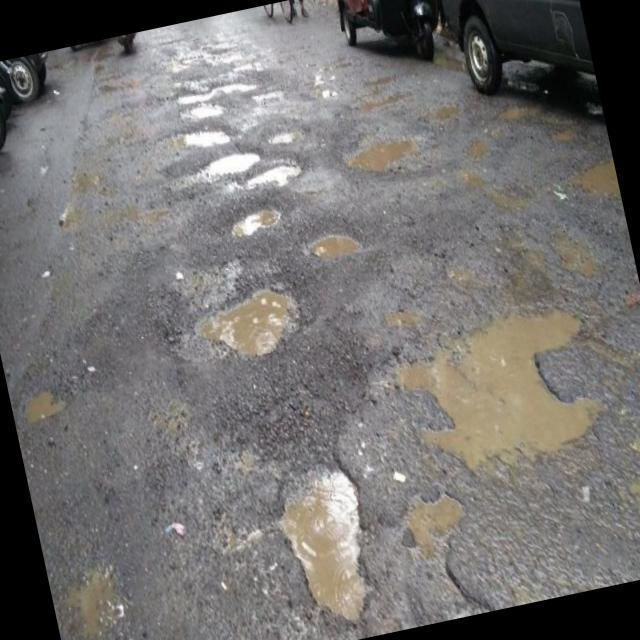Pothole: (358, 286, 618, 520), (245, 421, 409, 640), (524, 187, 608, 307), (190, 270, 305, 356), (334, 114, 432, 190), (7, 370, 94, 444), (170, 59, 270, 106), (196, 138, 275, 188), (227, 204, 300, 258), (307, 220, 367, 271), (250, 162, 311, 208), (262, 121, 334, 158), (179, 124, 234, 160), (244, 84, 296, 114)
